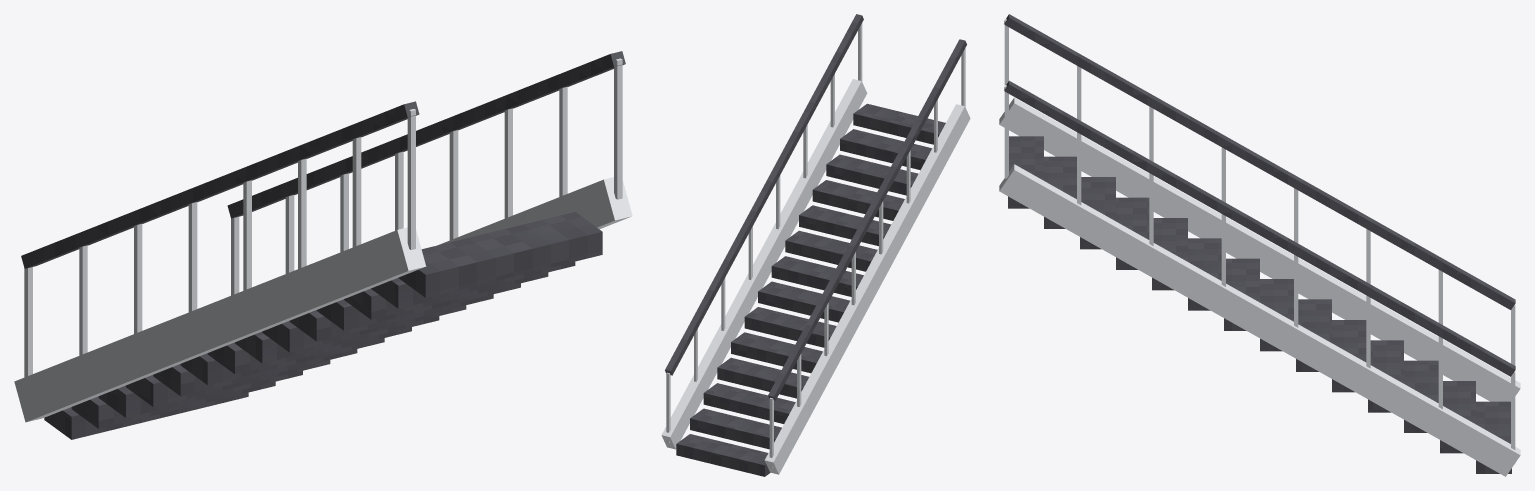
The model's file is three-d-retro-arcade-and-mall-1989-retro-arcade-and-mall-1989-escalator-a46644e3.glb.
3 views of the same model, side by side, from view 1: azimuth 30°, elevation 25°; view 2: azimuth 150°, elevation 25°; view 3: azimuth 270°, elevation 25° (orthographic). The views are drawn at different scales.
Parts seen in each view (by area): view 1: escalator; view 2: escalator; view 3: escalator.
Boxes of the visible parts, <box> form: escalator: <box>14,51,632,439</box>; escalator: <box>661,14,970,476</box>; escalator: <box>999,14,1520,476</box>.
Size of the model in its own units: 1.52 by 3.88 by 4.63.
2 materials, 1 textured.
